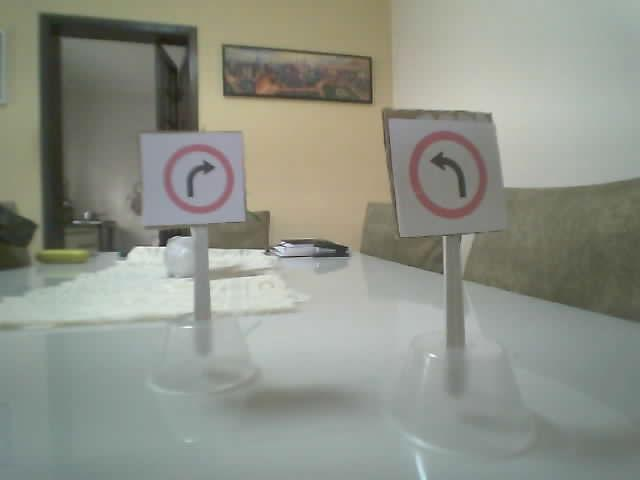R-25a_esquerda: (408, 130, 486, 218)
R-25b_direita: (163, 143, 233, 214)
